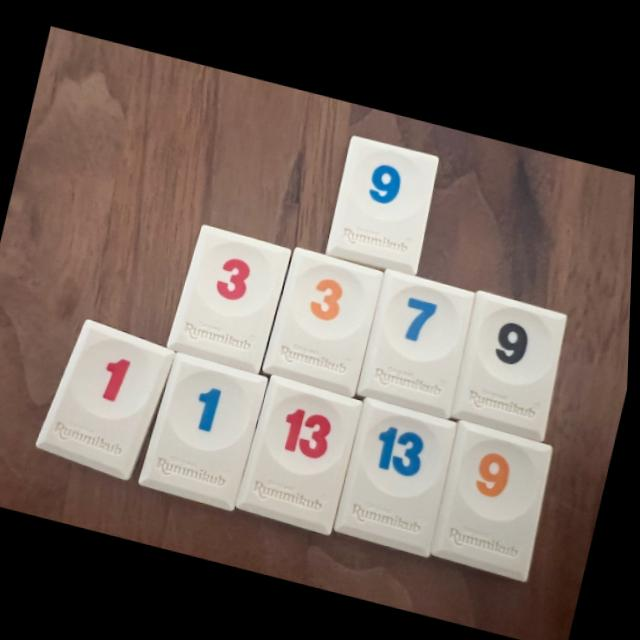black_9: (455, 286, 569, 435)
blue_1: (144, 351, 270, 506)
blue_13: (337, 393, 459, 551)
blue_7: (359, 265, 477, 413)
blue_9: (328, 132, 439, 270)
orange_3: (265, 244, 385, 393)
orange_9: (435, 415, 556, 575)
red_1: (39, 319, 177, 478)
red_13: (240, 372, 365, 531)
red_3: (169, 223, 293, 370)
